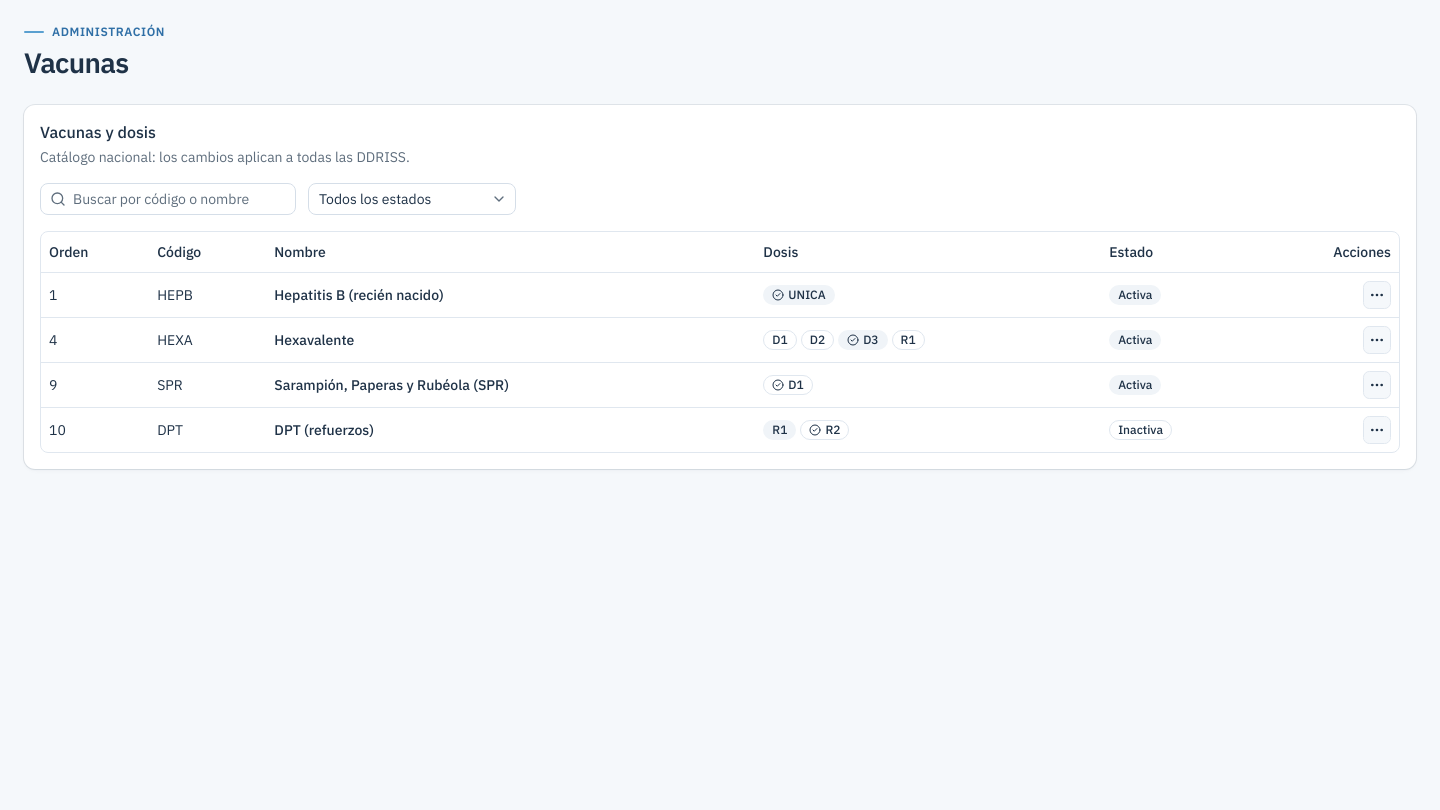
Scenario: acciones › un error al desactivar se muestra en un Alert y la fila no cambia
Press Enter in the button named "Acciones de HEXA", box [1363,326,1391,354]
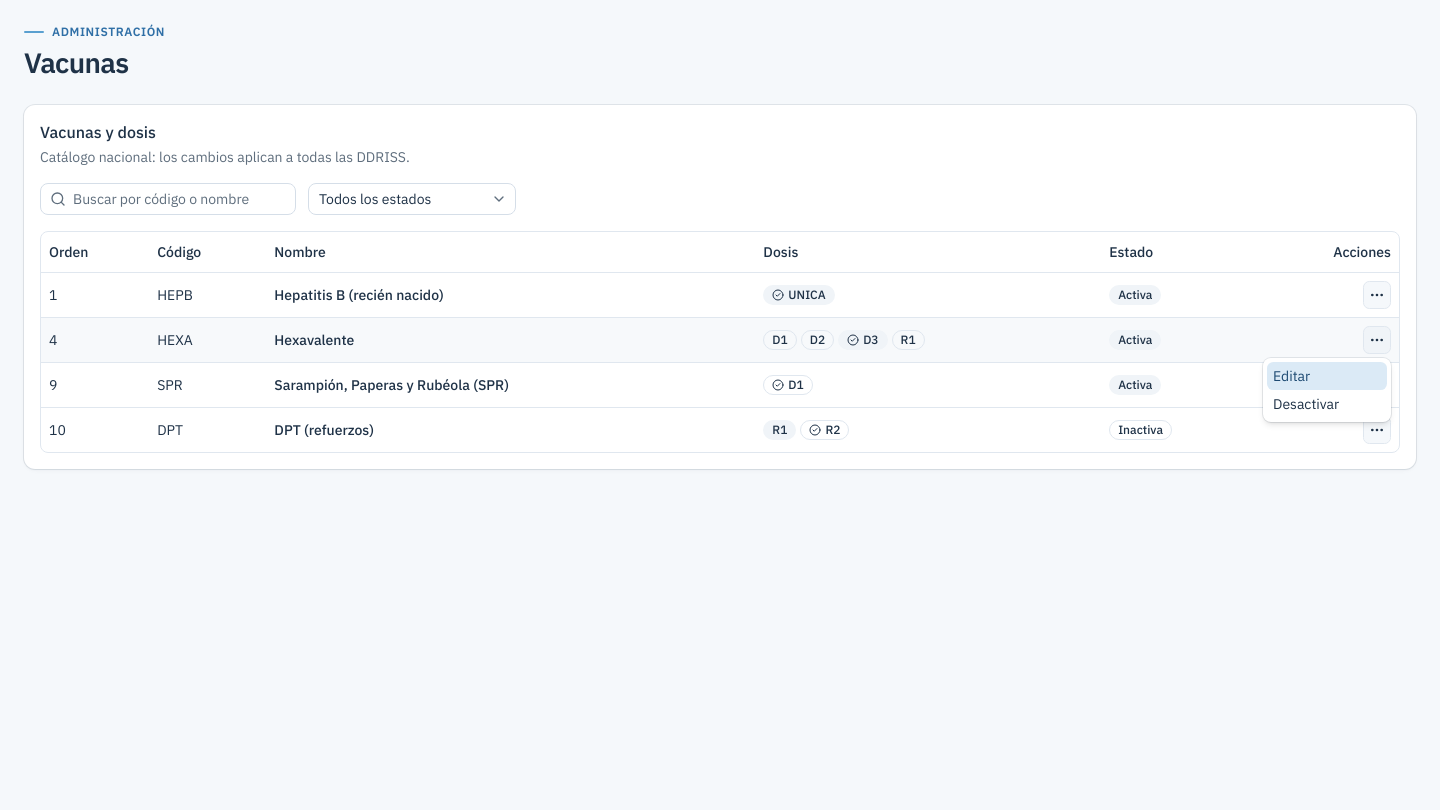
Click the menu item "Desactivar": click(1306, 404) [1273,395,1339,413]
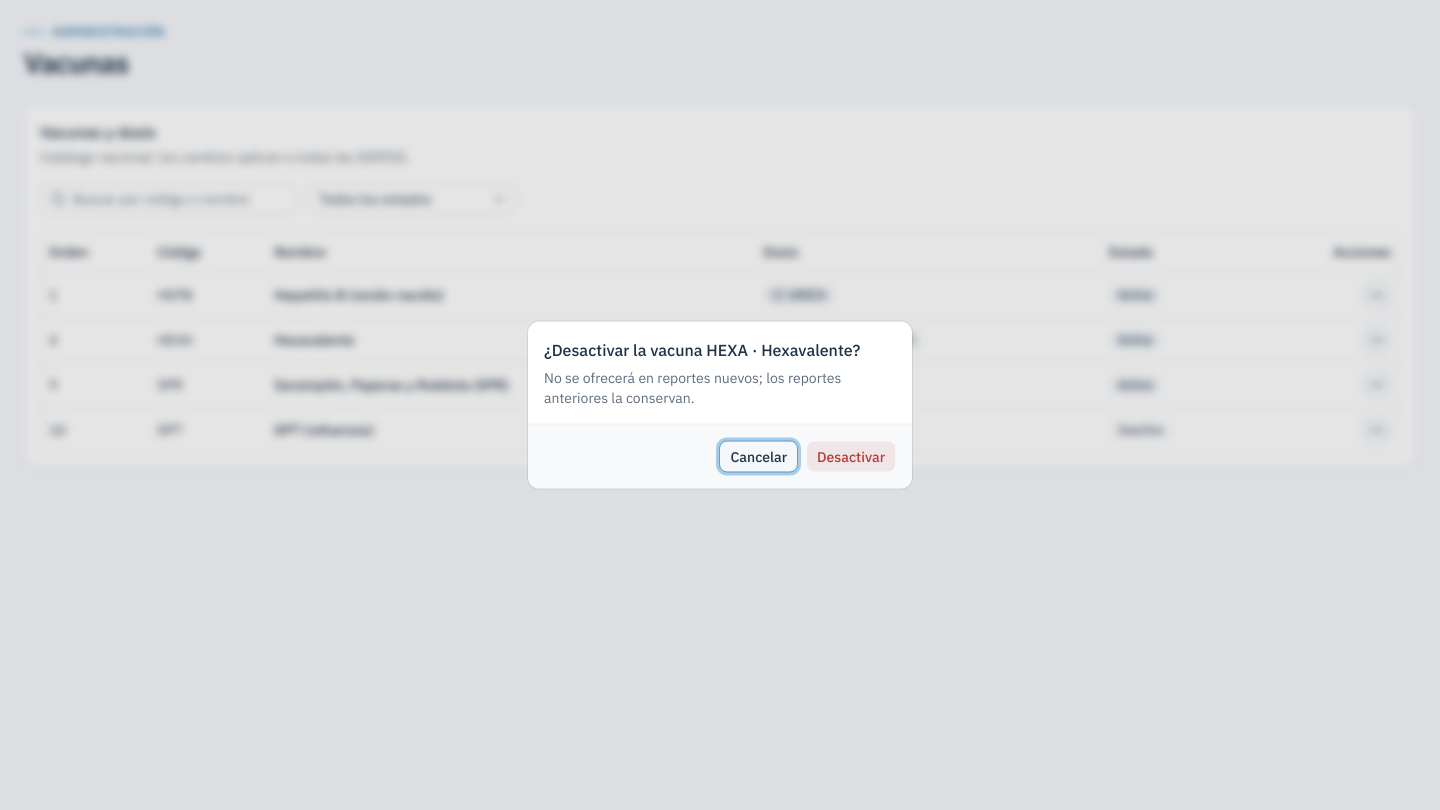
Click the button "Desactivar": click(851, 456) [806,440,896,472]
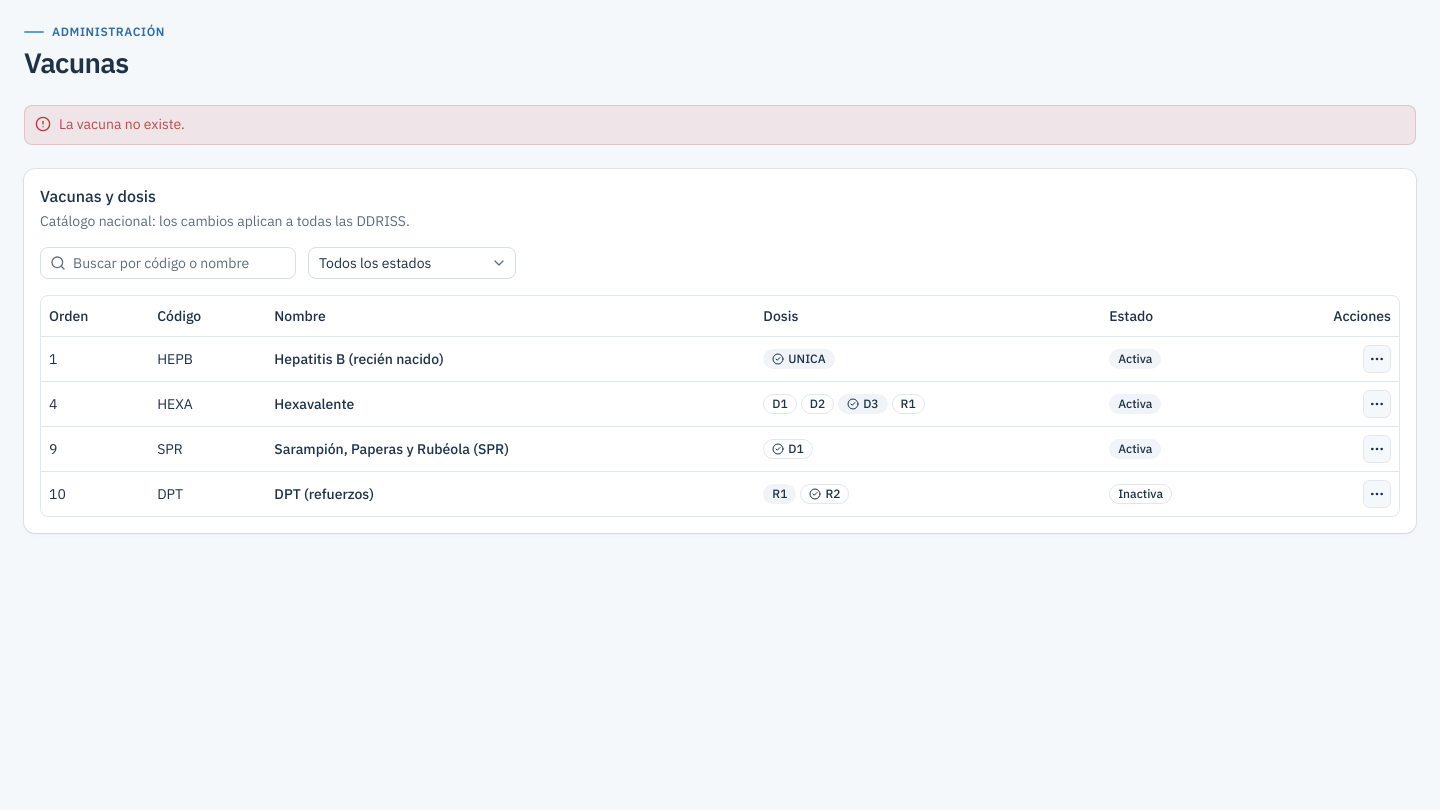
Check: the cell "Activa" in the row of "Hexavalente" is shown, box [1118,396,1152,411]
Check: the text "La vacuna no existe." is shown, box [59,115,185,133]
